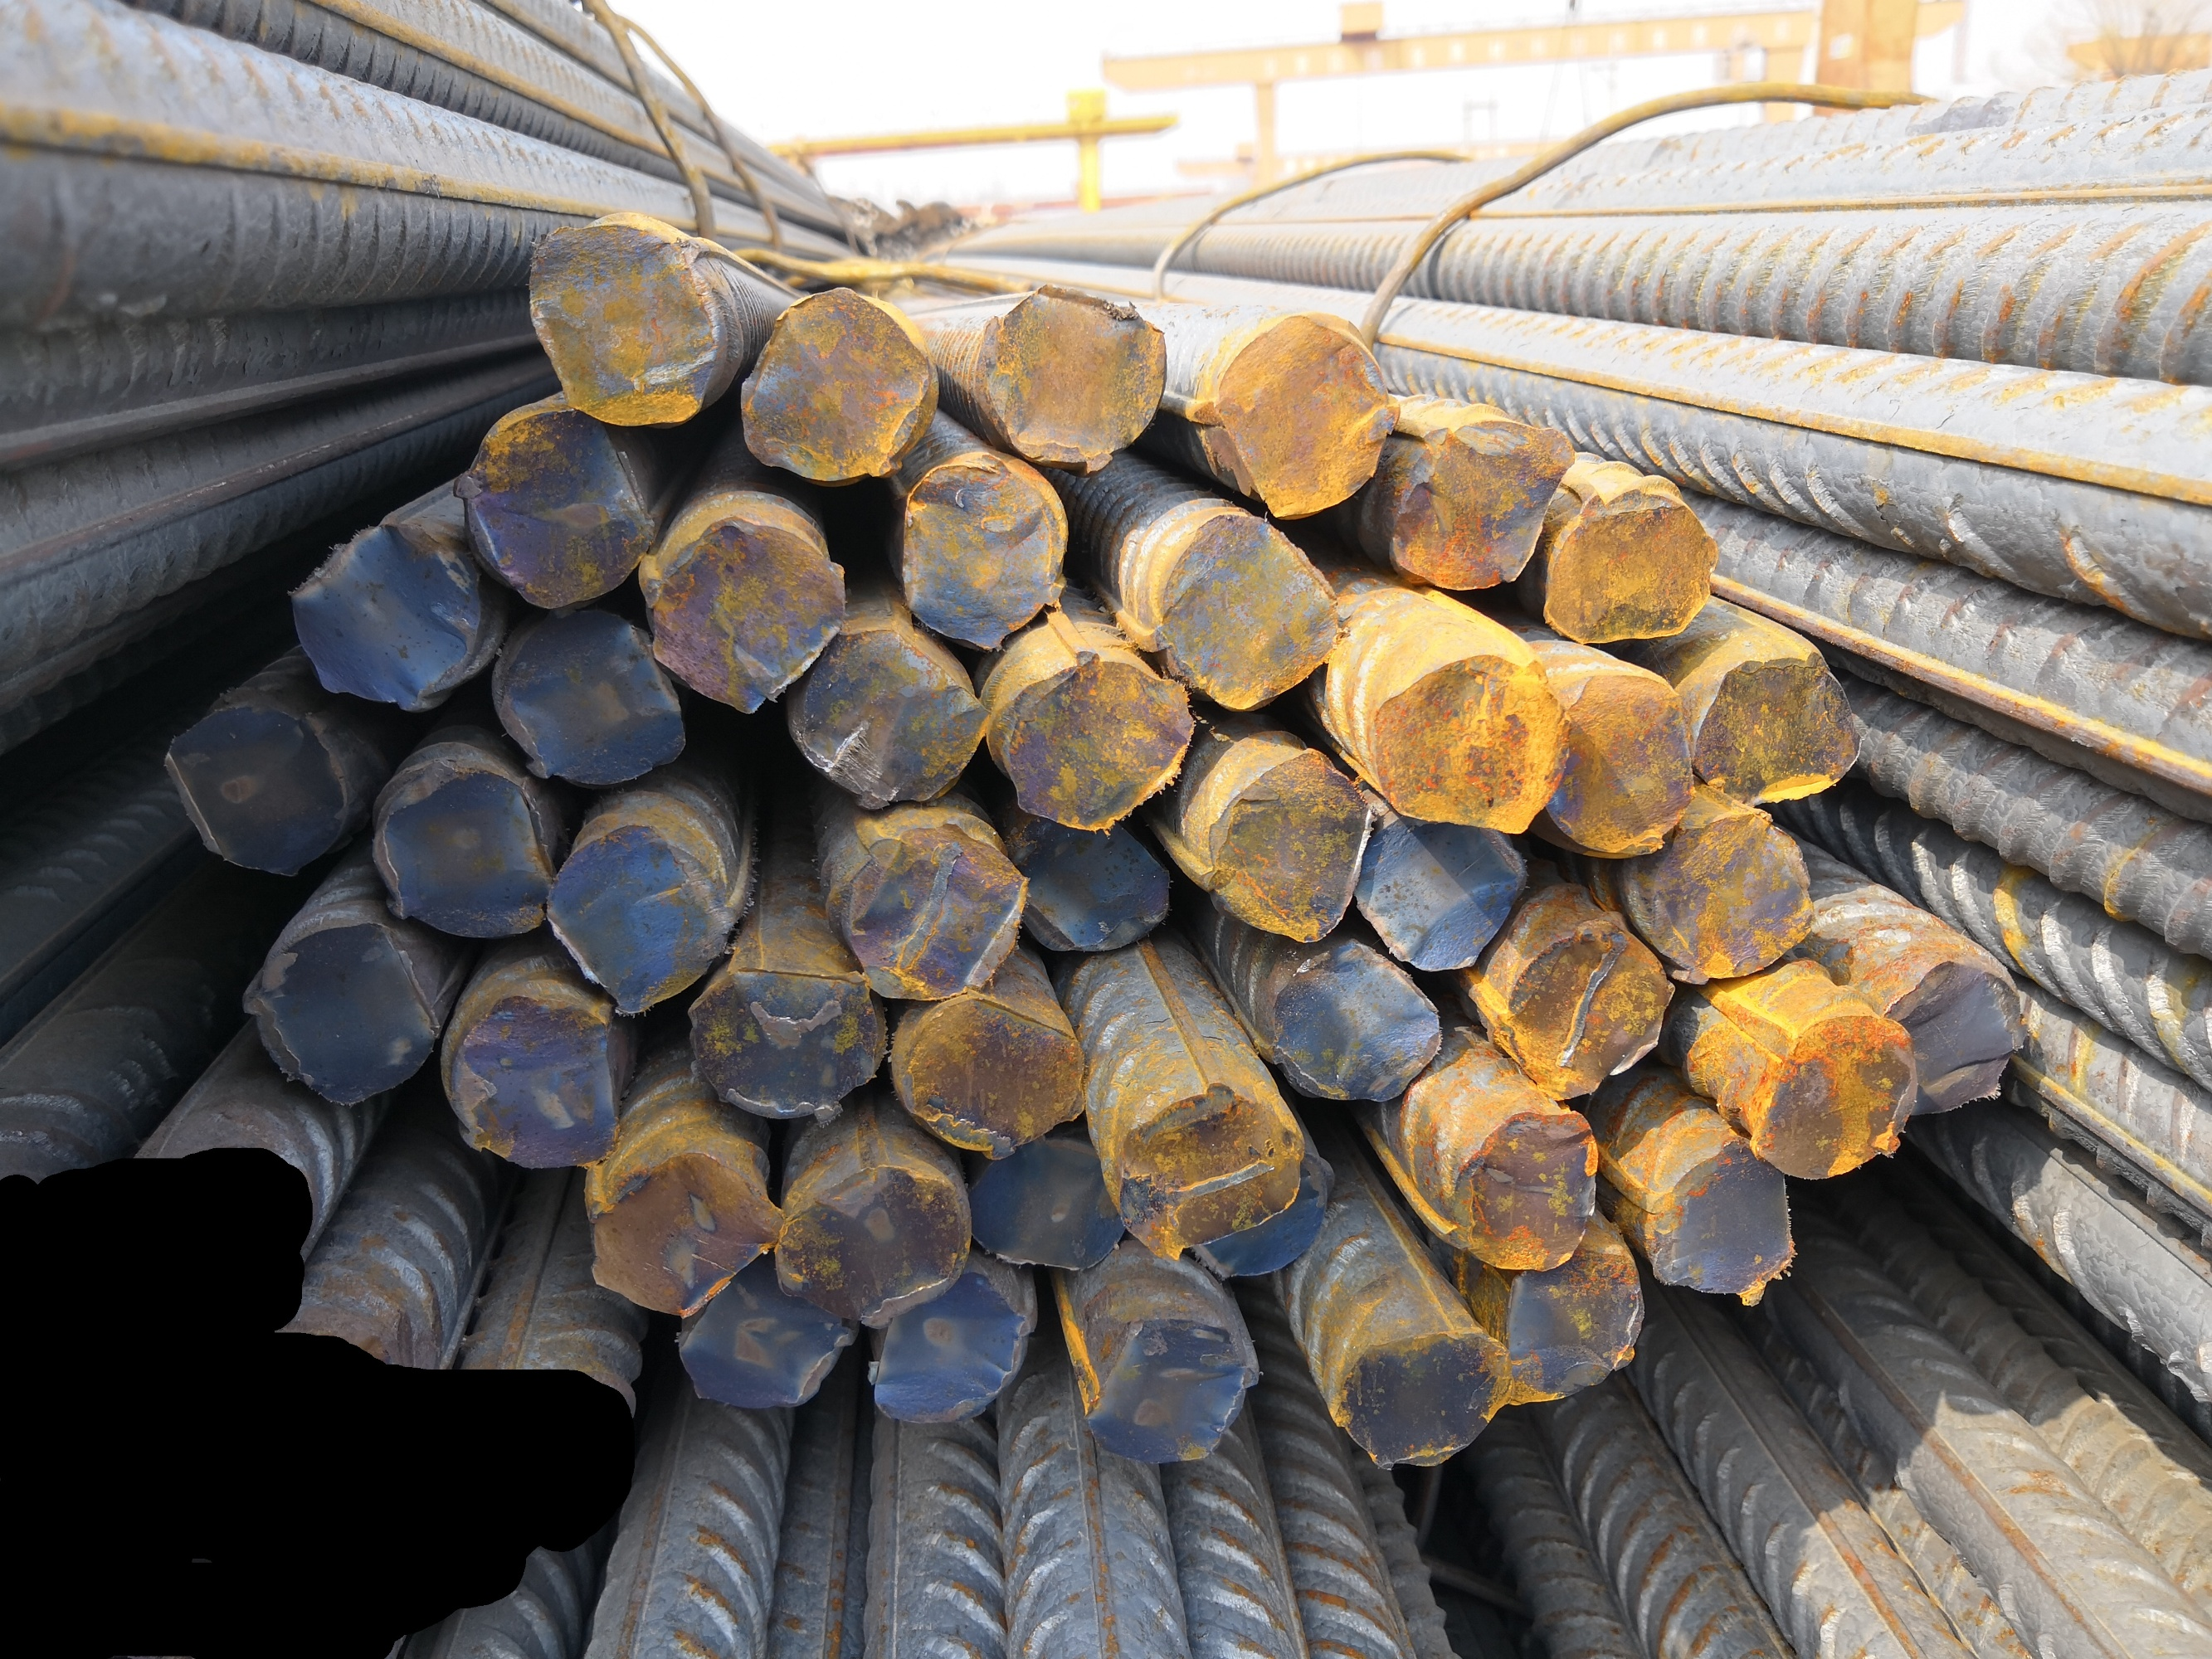rebar: (450, 403, 657, 612), (1192, 315, 1401, 521), (638, 511, 847, 714), (1135, 511, 1342, 714), (526, 218, 725, 429), (784, 622, 994, 812), (739, 284, 934, 484), (544, 823, 741, 1016), (992, 648, 1198, 833), (1370, 650, 1572, 836), (241, 918, 438, 1108), (488, 605, 692, 788), (284, 519, 478, 711), (978, 282, 1170, 474), (1110, 1079, 1306, 1267), (1198, 744, 1377, 946), (833, 821, 1030, 1002), (887, 986, 1088, 1162), (770, 1157, 973, 1331), (368, 753, 553, 941), (1492, 918, 1677, 1105), (587, 1148, 784, 1321), (896, 457, 1067, 653), (160, 701, 347, 878), (1388, 418, 1578, 592), (444, 992, 622, 1173), (675, 1248, 863, 1412), (689, 964, 882, 1122), (1649, 807, 1816, 986), (1351, 809, 1532, 974), (1747, 1011, 1921, 1182), (1269, 939, 1445, 1105), (1686, 647, 1865, 807), (1541, 491, 1722, 648), (1543, 671, 1694, 856), (1081, 1312, 1262, 1466), (1440, 1107, 1600, 1276), (1328, 1326, 1515, 1471), (870, 1263, 1035, 1425), (1874, 955, 2032, 1119), (1649, 1133, 1797, 1305), (1499, 1237, 1647, 1408), (960, 1133, 1130, 1276), (1004, 819, 1175, 955), (1198, 1147, 1333, 1279)
